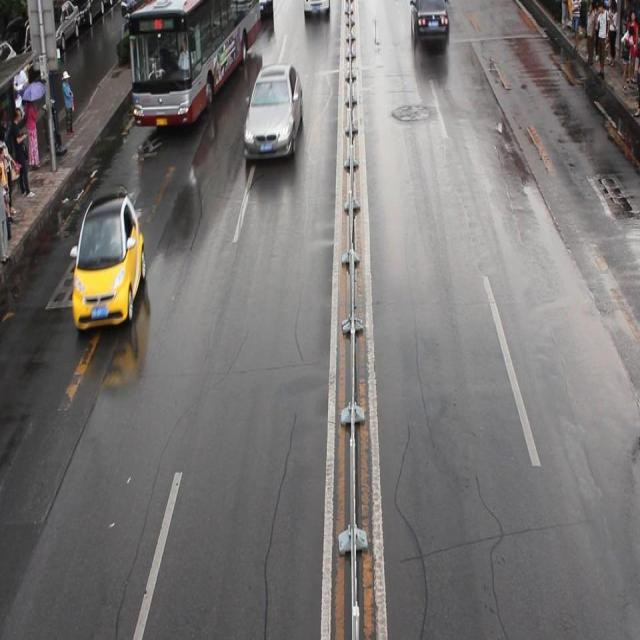car: (71, 197, 146, 330), (244, 64, 303, 160), (410, 1, 450, 46)
truck: (302, 1, 330, 23)
van: (126, 1, 262, 122)
